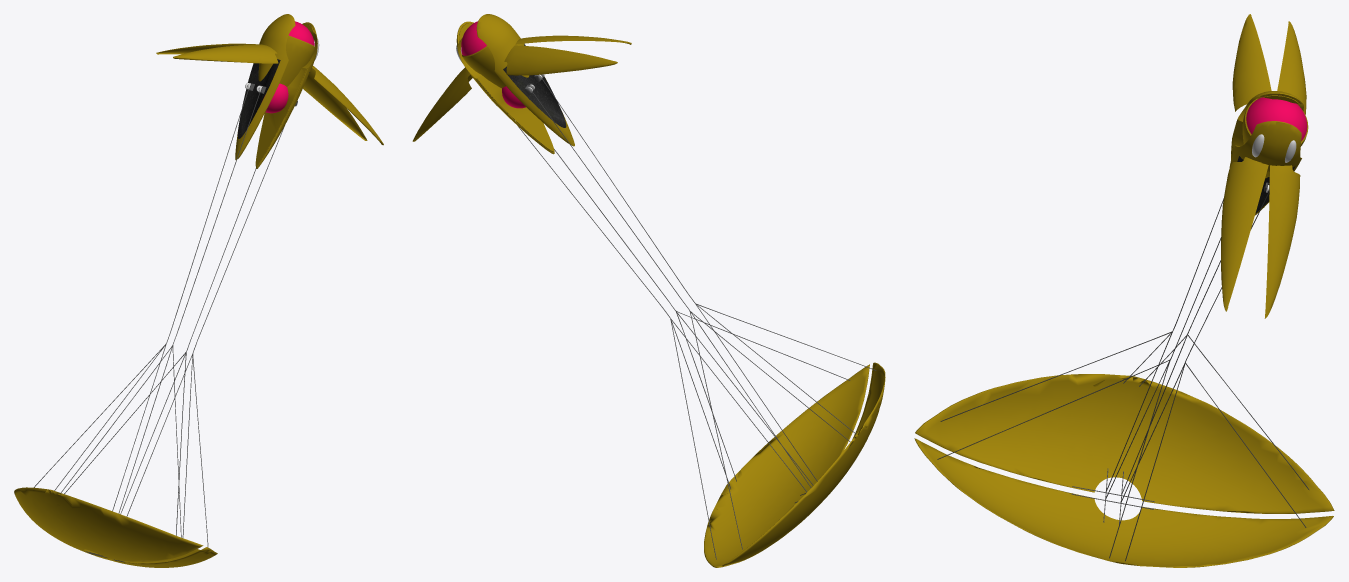
Rendered from solarsailer.glb.
3 views of the same model, side by side, from view 1: azimuth 30°, elevation 25°; view 2: azimuth 150°, elevation 25°; view 3: azimuth 270°, elevation 25° (orthographic). The views are drawn at different scales.
Parts seen in each view (by area): view 1: Object_4, Object_20, Object_6, Object_10; view 2: Object_4, Object_20, Object_6, Object_10; view 3: Object_4, Object_20, Object_10.
Part boxes in pixels (x1,y1,x2,y2): Object_4: [14, 14, 383, 567]; Object_20: [34, 82, 297, 562]; Object_6: [237, 25, 311, 153]; Object_10: [261, 21, 314, 113]; Object_4: [412, 14, 885, 567]; Object_20: [496, 74, 876, 559]; Object_6: [459, 23, 566, 150]; Object_10: [461, 21, 525, 108]; Object_4: [914, 14, 1334, 567]; Object_20: [937, 182, 1309, 561]; Object_10: [1246, 97, 1307, 140].
Size of the model in its own units: 16.8 by 20.01 by 12.77.
5 materials, 1 textured.
